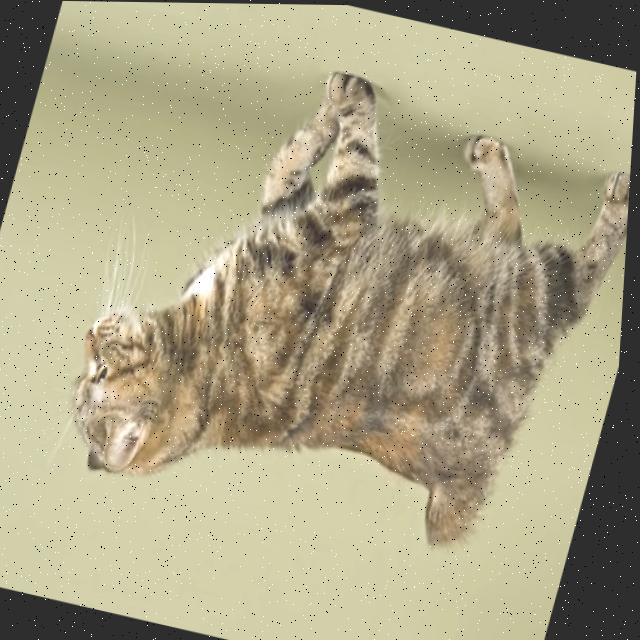American Bobtail: (44, 25, 639, 578)
